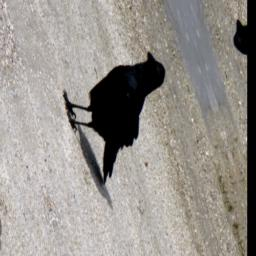Crow: (55, 44, 193, 192)
